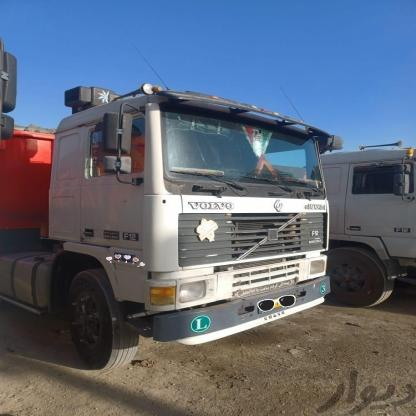Truck: (0, 83, 339, 380), (303, 143, 416, 294)
